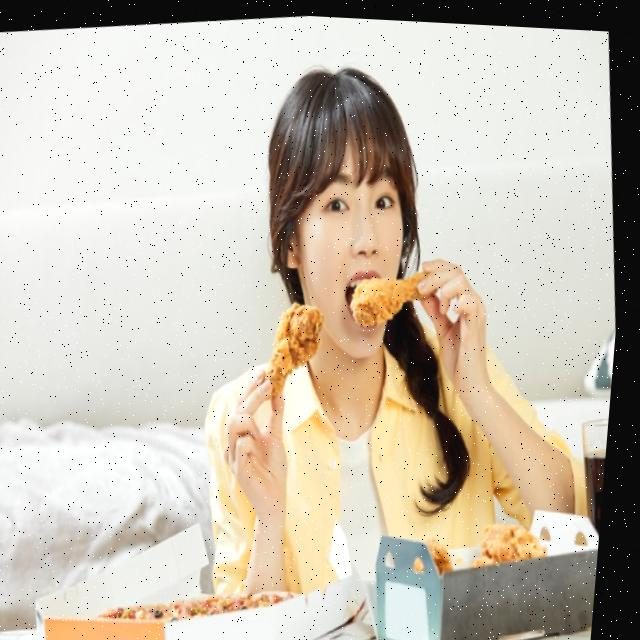eating-person: (154, 12, 640, 640)
